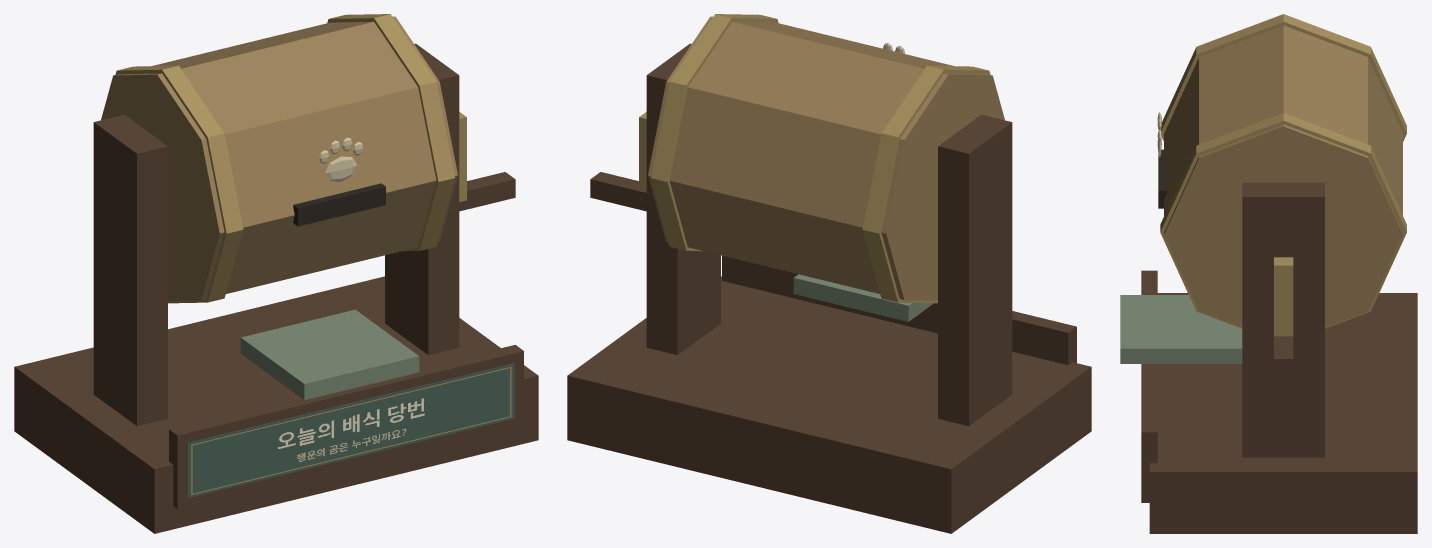
The model's file is M02_Duty_Lottery.fbx.
The picture shows the model from 3 angles, left to right: view 1: azimuth 30°, elevation 25°; view 2: azimuth 150°, elevation 25°; view 3: azimuth 270°, elevation 25°; orthographic projection. The views are drawn at different scales.
Visible parts, largest first — view 1: Structure.006, Drum, Crank; view 2: Structure.006, Drum, Crank; view 3: Structure.006, Drum, Crank.
Boxes of the visible parts, x1,y1,x2,y2 form: Structure.006: [14, 43, 538, 533]; Drum: [101, 14, 457, 303]; Crank: [459, 112, 515, 211]; Structure.006: [567, 43, 1091, 533]; Drum: [648, 14, 1004, 303]; Crank: [590, 112, 646, 211]; Structure.006: [1120, 182, 1417, 533]; Drum: [1157, 14, 1406, 328]; Crank: [1274, 257, 1293, 376].
Size of the model in its own units: 96.5 by 85.3 by 61.
1 material, 1 textured.
